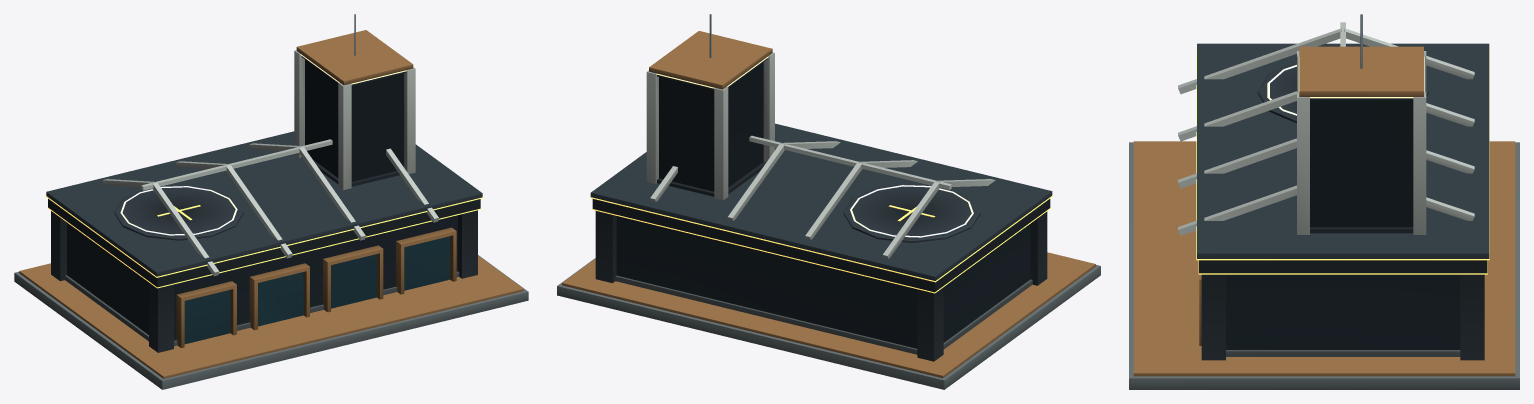
Rendered from mission-terminal.lod2.glb.
3 renders of one model, left to right at view 1: azimuth 30°, elevation 25°; view 2: azimuth 150°, elevation 25°; view 3: azimuth 270°, elevation 25°, orthographic. The views are drawn at different scales.
Visible parts, largest first — view 1: structure, lobby; view 2: structure, lobby; view 3: structure, lobby.
Part boxes in pixels (x1=…): structure: x1=14, y1=14, x2=528, y2=389; lobby: x1=67, y1=215, x2=457, y2=344; structure: x1=557, y1=14, x2=1100, y2=389; lobby: x1=616, y1=216, x2=1030, y2=348; structure: x1=1129, y1=14, x2=1519, y2=389; lobby: x1=1226, y1=274, x2=1460, y2=349.
Size of the model in its own units: 30 by 19 by 21.
